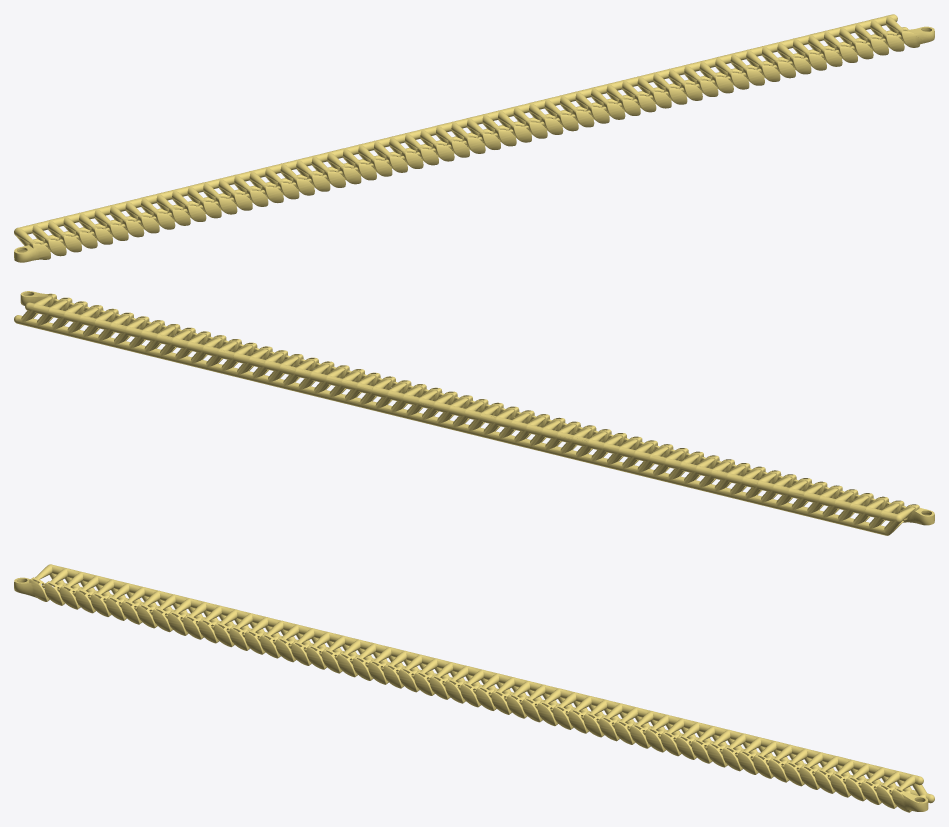
The model's file is yzn5-91_4.glb.
3 renders of one model, top to bottom at view 1: azimuth 30°, elevation 25°; view 2: azimuth 150°, elevation 25°; view 3: azimuth 330°, elevation 25°, orthographic.
Parts seen in each view (by area): view 1: Renderer Node; view 2: Renderer Node; view 3: Renderer Node.
Boxes of the visible parts, x1,y1,x2,y2 form: Renderer Node: (14,14,934,262); Renderer Node: (14,291,934,535); Renderer Node: (14,564,934,812).
Bounding box in the file's own units: 178 × 4.38 × 7.63.
